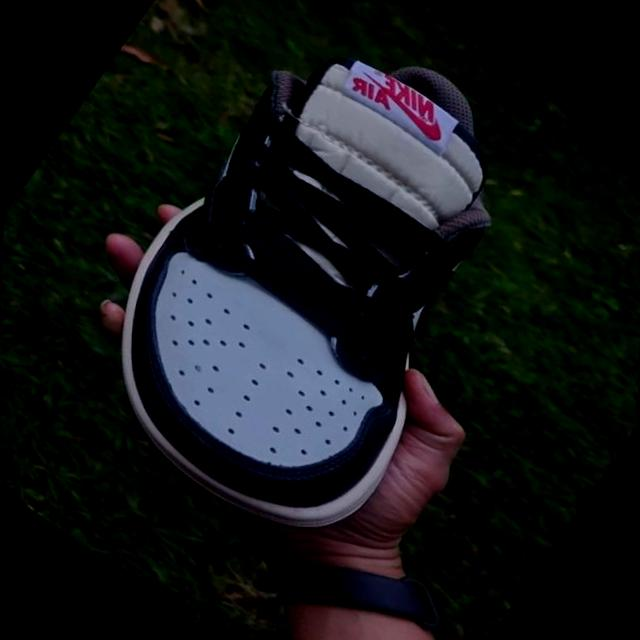nike_fake_jordan: (35, 0, 609, 585)
